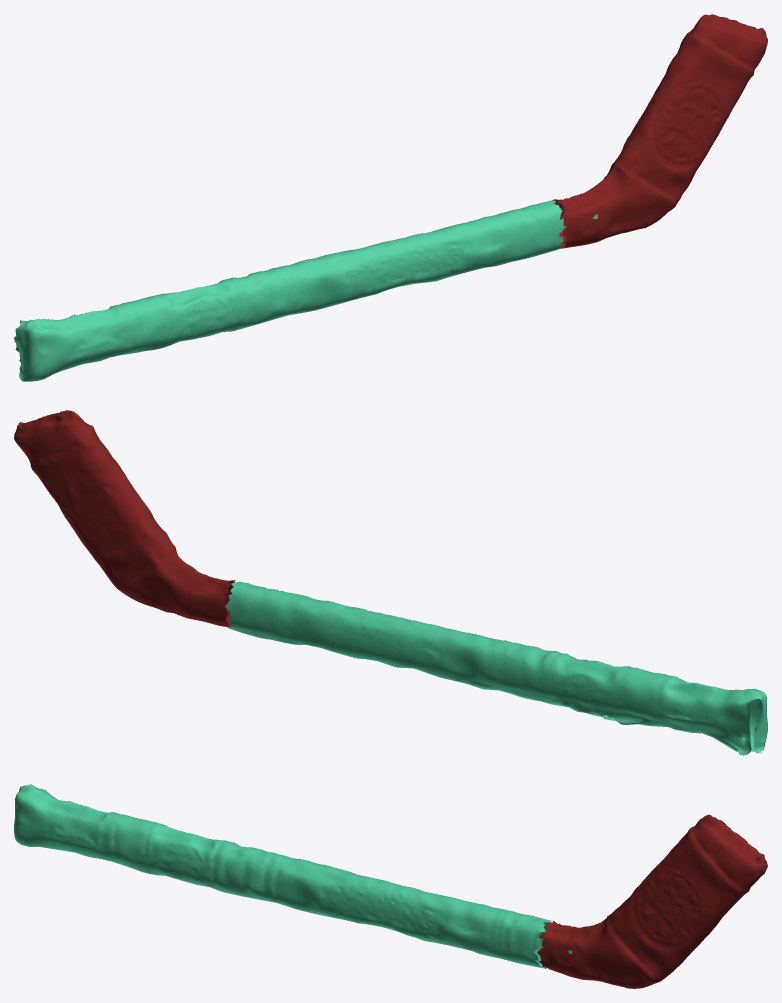
Rendered from object_deformed_5.obj.
The picture shows the model from 3 angles, top to bottom: view 1: azimuth 30°, elevation 25°; view 2: azimuth 150°, elevation 25°; view 3: azimuth 330°, elevation 25°; orthographic projection. The views are drawn at different scales.
Size of the model in its own units: 0.6868 by 0.1659 by 0.0491.
